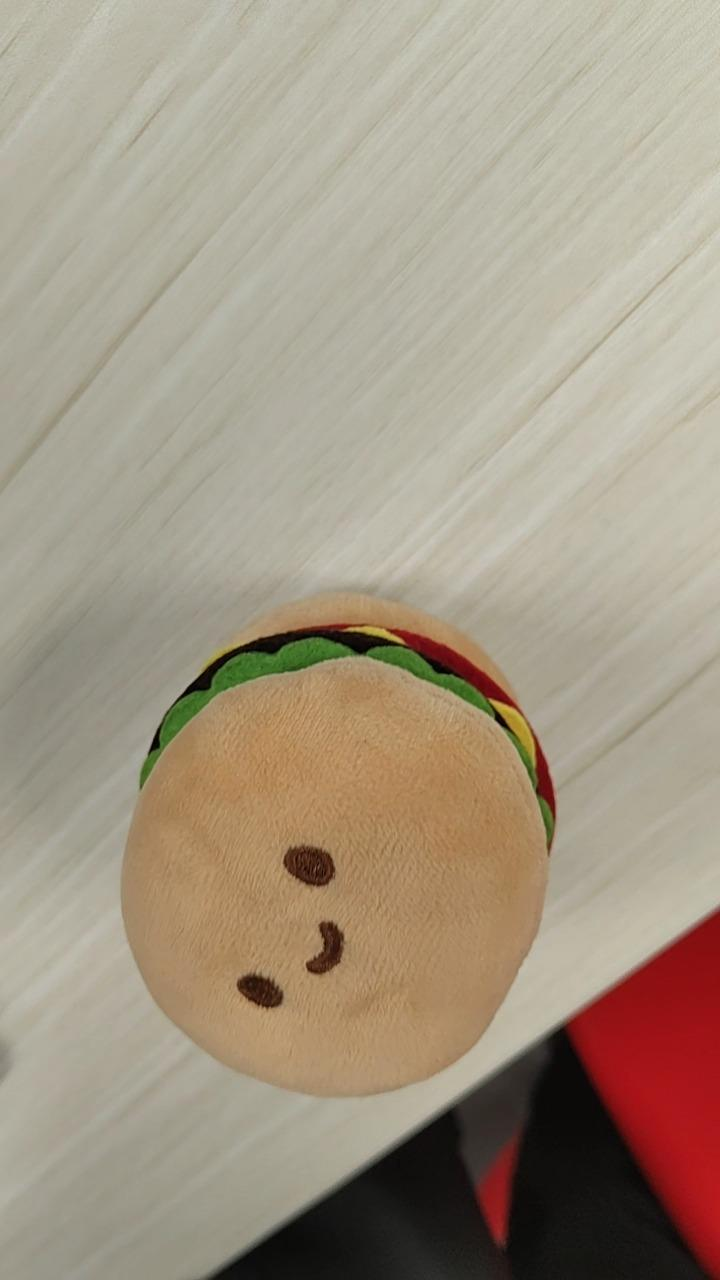hamburger: (118, 588, 558, 1099)
